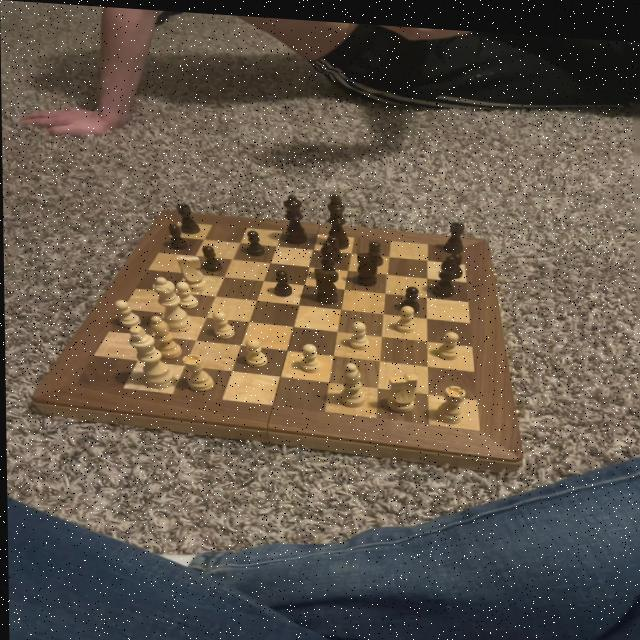bishop: (430, 249, 458, 294), (318, 237, 341, 277)
black-bishop: (321, 186, 351, 245)
black-king: (350, 243, 382, 285), (311, 262, 340, 302)
black-knight: (270, 264, 294, 297), (398, 280, 421, 313), (200, 240, 223, 272), (165, 221, 188, 250), (244, 226, 266, 256), (323, 231, 344, 260), (447, 246, 465, 278), (363, 234, 384, 261)
black-pawn: (280, 189, 309, 244)
black-queen: (173, 198, 201, 234), (440, 212, 466, 250)
black-rook: (147, 312, 183, 359), (334, 357, 366, 405)
white-bishop: (125, 322, 177, 389)
white-king: (381, 366, 420, 407), (175, 252, 209, 291)
white-knight: (294, 338, 325, 371), (111, 295, 140, 329), (389, 299, 418, 331), (433, 323, 461, 356), (241, 333, 269, 365), (344, 314, 371, 347), (206, 307, 234, 338), (172, 277, 200, 308)
white-pawn: (150, 273, 193, 332)
white-queen: (432, 376, 468, 419), (181, 349, 216, 391)
